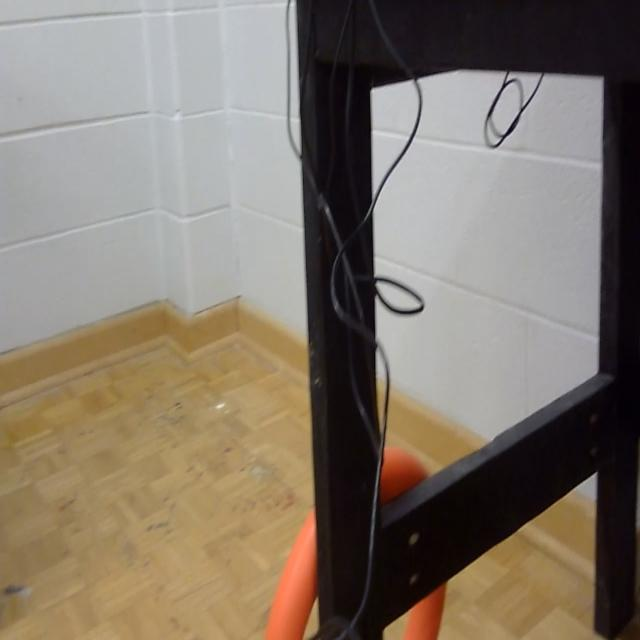note: (264, 440, 448, 640)
